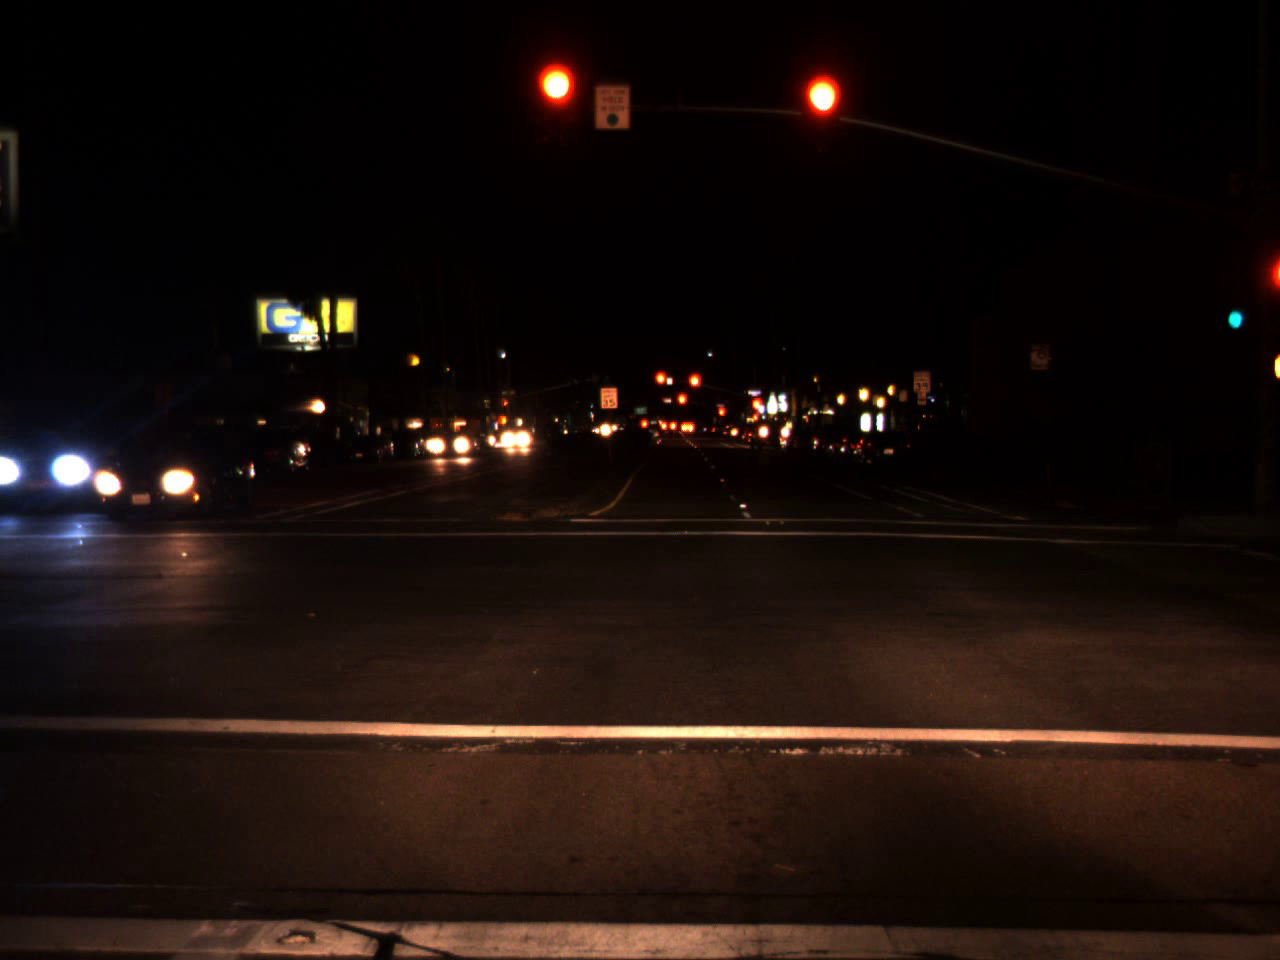stop: (537, 64, 577, 142), (802, 75, 839, 153), (653, 369, 671, 401), (686, 372, 702, 401), (675, 391, 688, 418), (752, 399, 764, 417), (717, 406, 727, 427), (503, 398, 509, 414)
